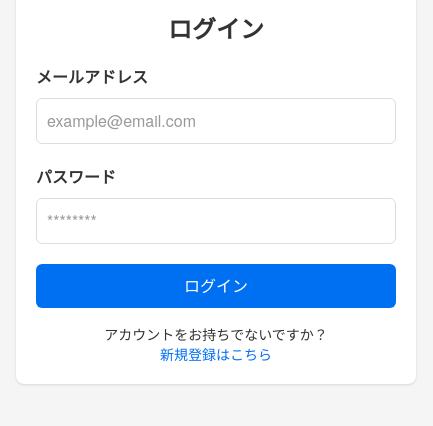
ログイン画面 › フォーカスが外れたとき未入力の項目にエラーを表示する
The width and height of the screenshot is (433, 426).
Click the field labelled "メールアドレス" at (216, 121), box x1=36 y1=98 x2=396 y2=144
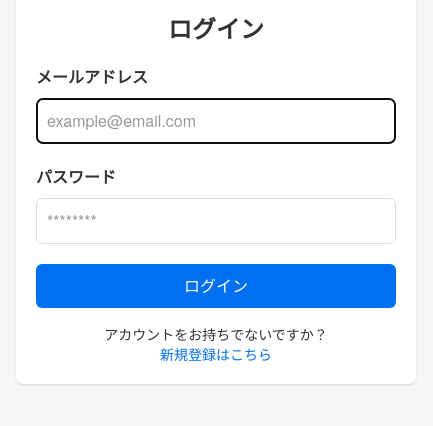
Press Tab
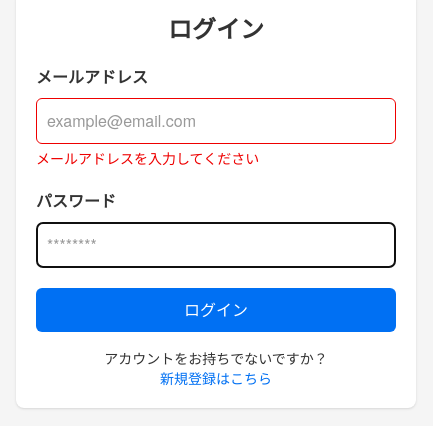
Check: the text "メールアドレスを入力してください" is shown, box x1=36 y1=148 x2=259 y2=168
